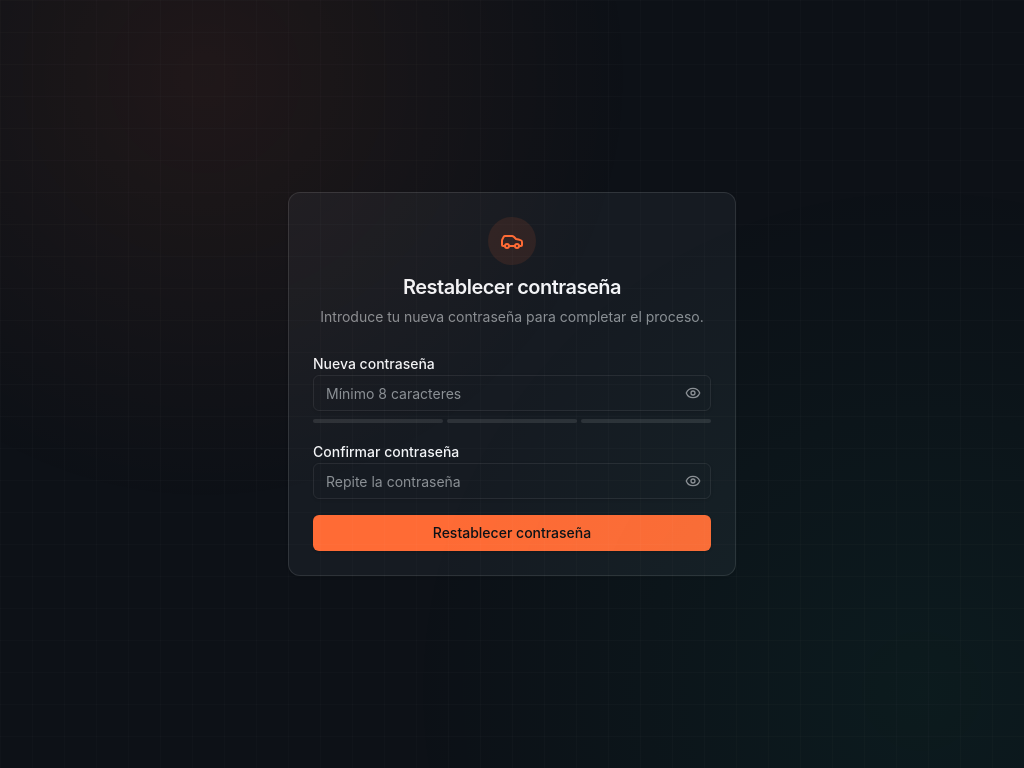
Scenario: ResetPasswordPage › validates password confirmation match
Type "Password123!" into the password field labelled "Nueva contraseña" at (512, 393), box [313,375,711,411]
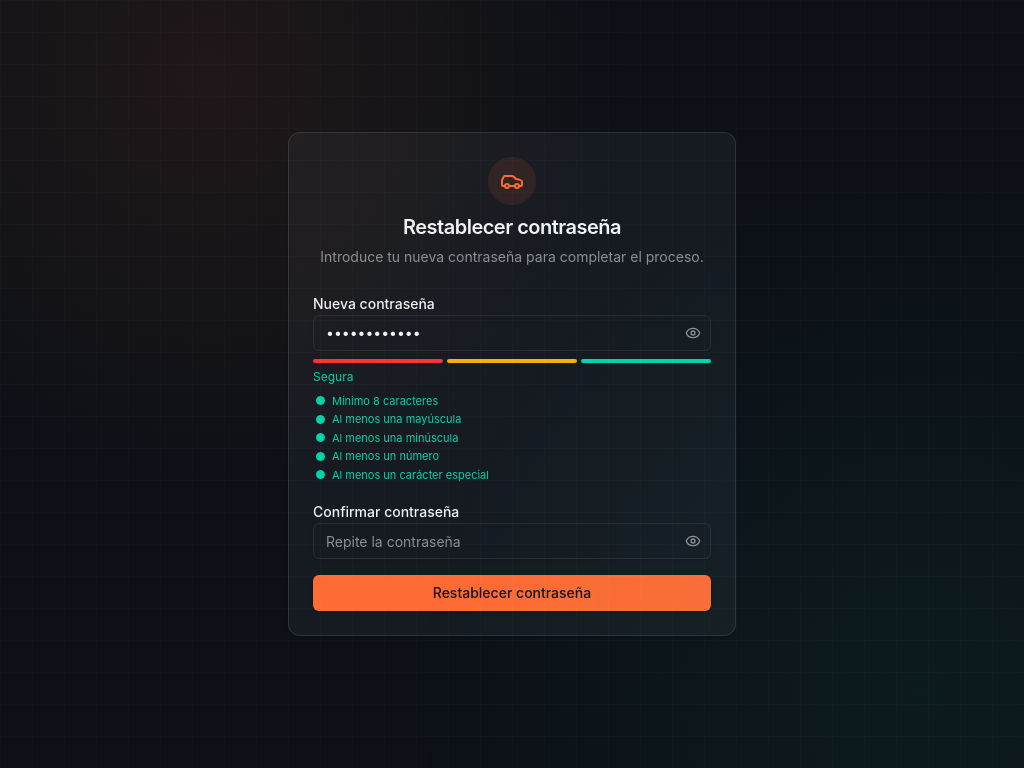
Type "Different123!" into the password field labelled "Confirmar contraseña" at (512, 541), box [313,523,711,559]
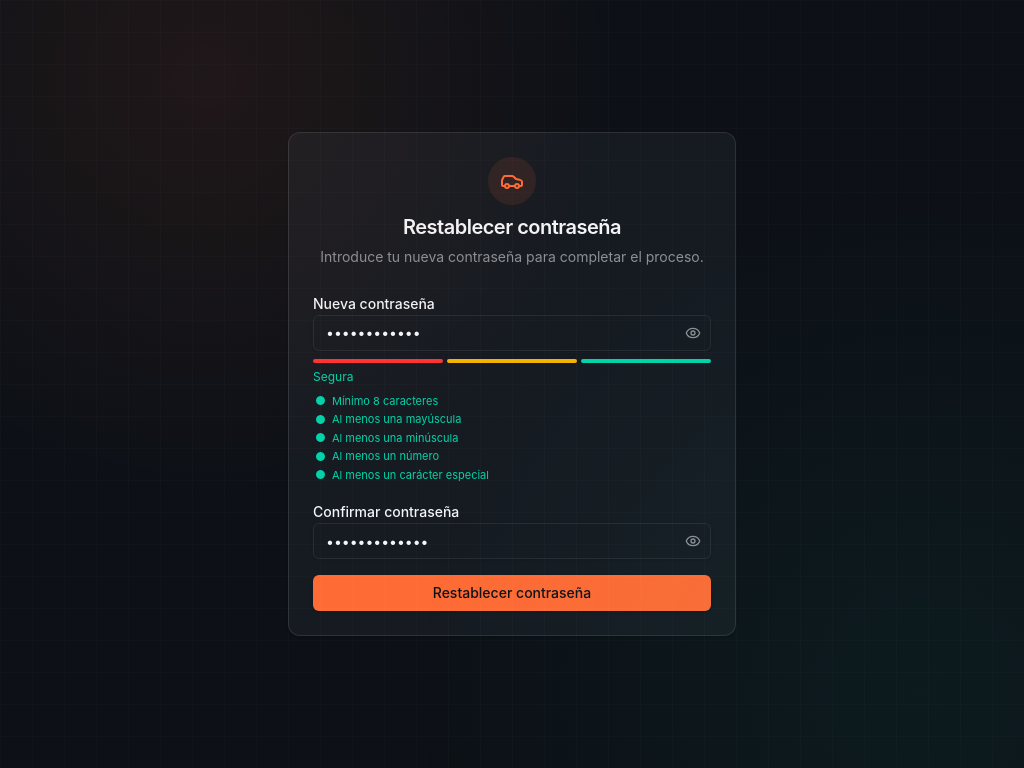
Click the button "Restablecer contraseña" at (512, 593), box [313,575,711,611]
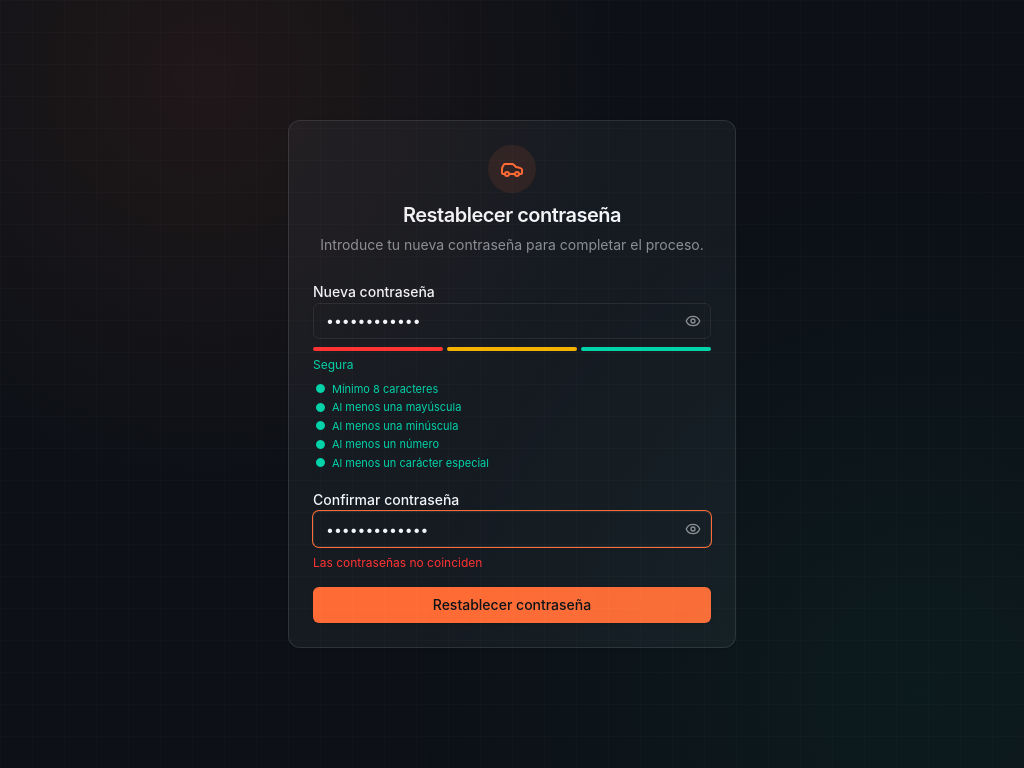
Now the text "Las contraseñas no coinciden" is shown, box [313,555,482,570]
